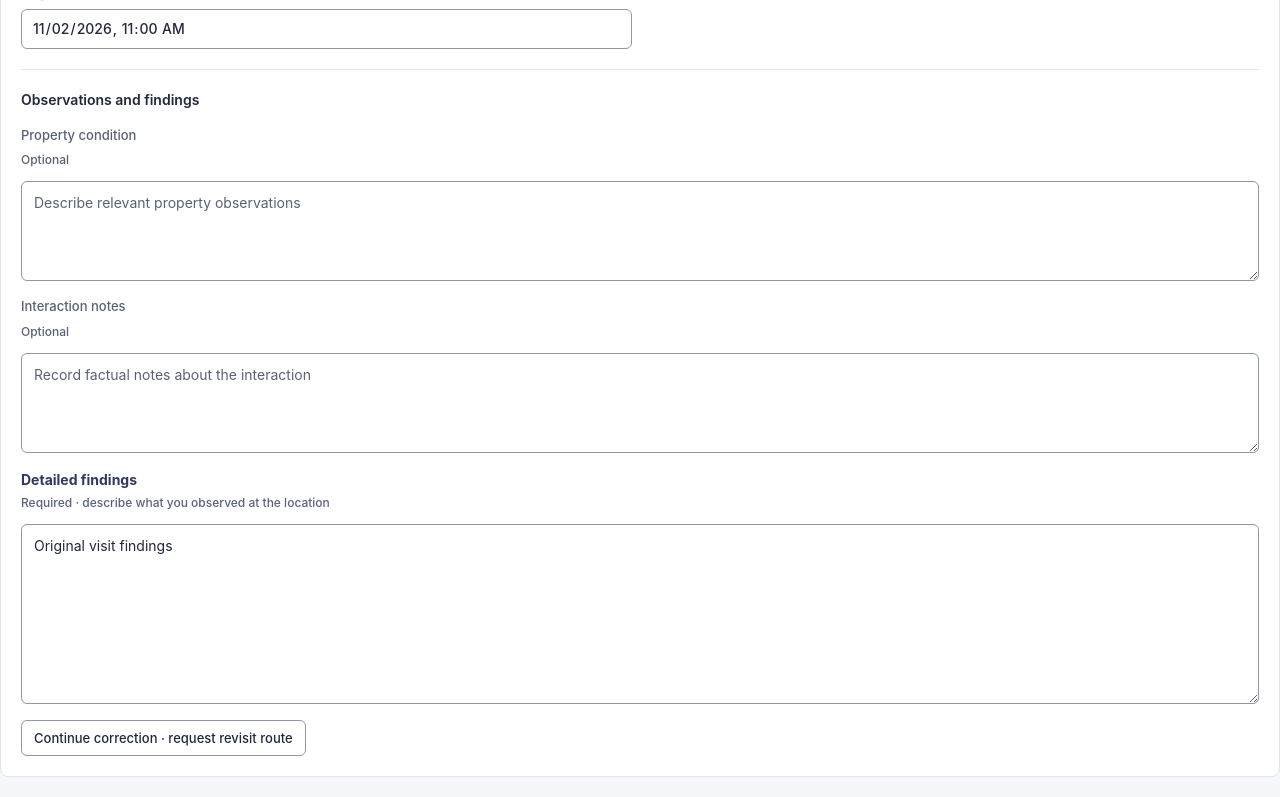
Test: ReportEditor revisit action › requests the revisit explicitly and shows its waiting state
(page scrolled)
Click the button "Continue correction · request revisit route". click: [163, 738]
box: [21,720,306,756]
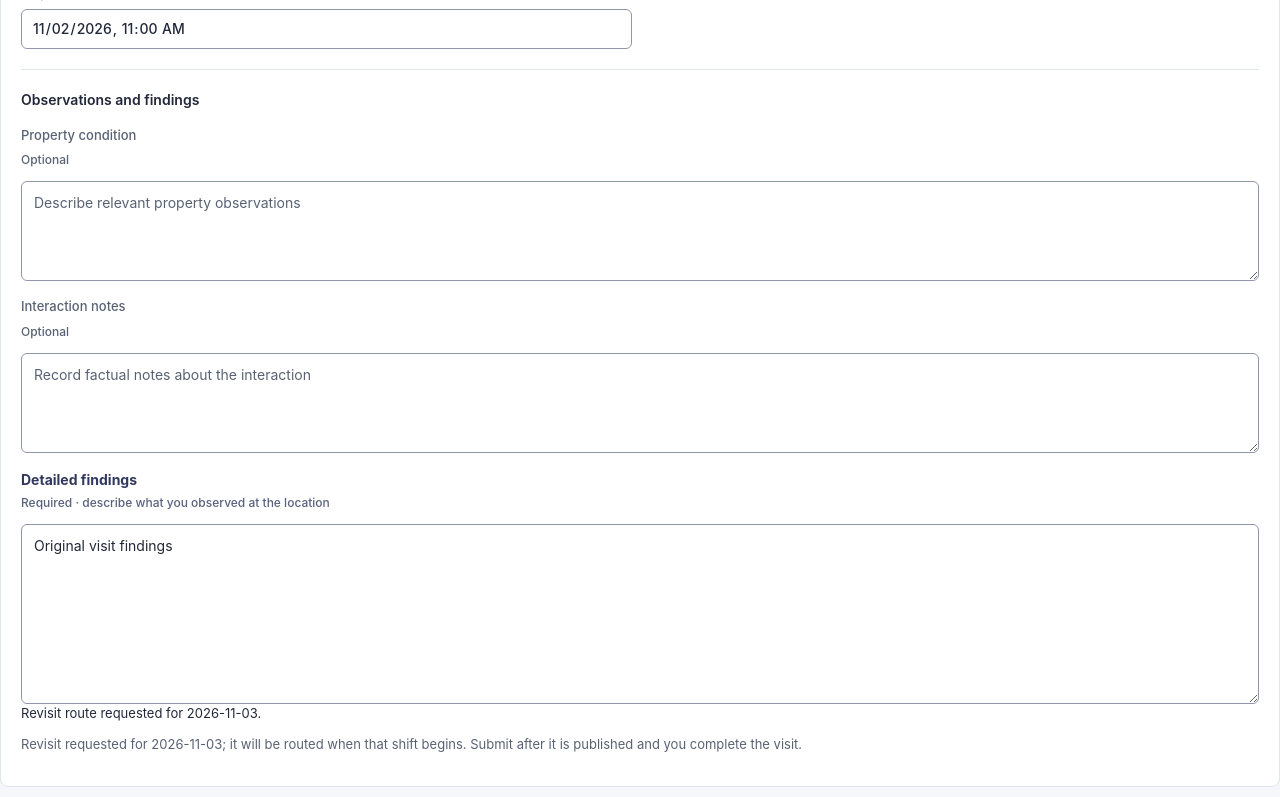
Result: the text "Revisit requested for 2026-11-03" is shown at [21,736,802,752]
